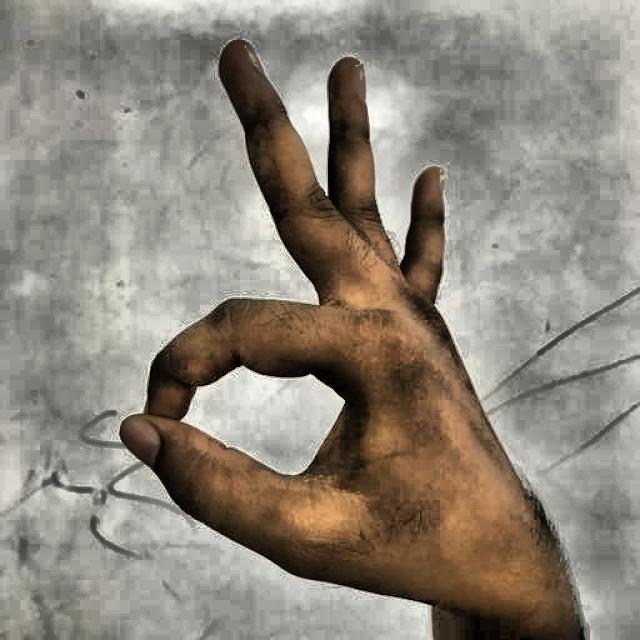Ca: (88, 13, 598, 640)
